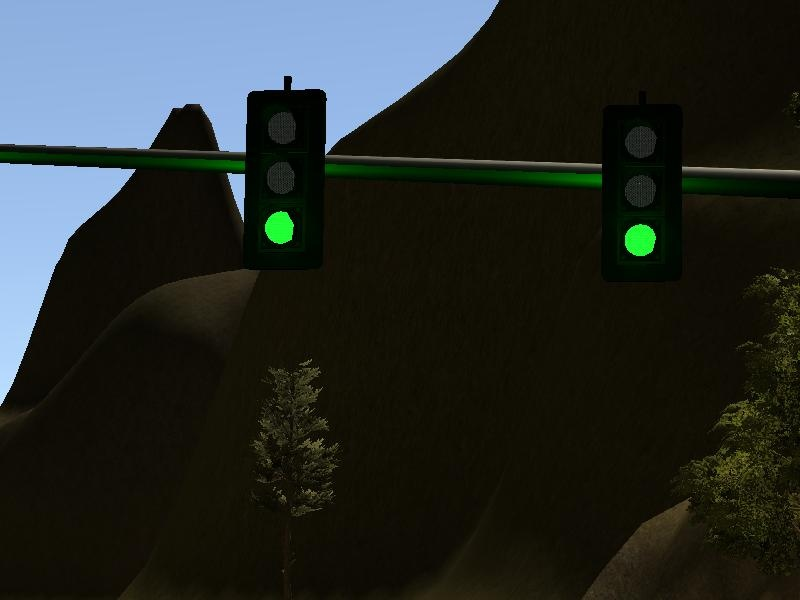Green: (598, 100, 686, 286), (242, 86, 329, 272)
